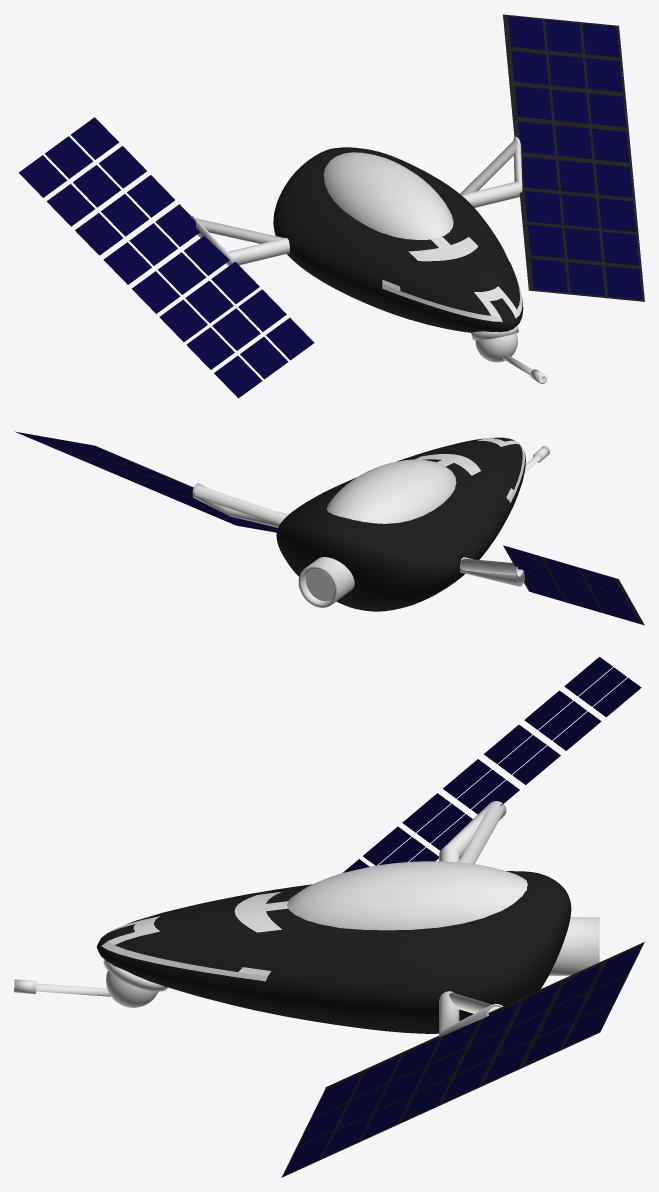
File: SpaceShip.fbx
The picture shows the model from 3 angles, top to bottom: view 1: azimuth 30°, elevation 25°; view 2: azimuth 150°, elevation 25°; view 3: azimuth 270°, elevation 25°; orthographic projection. The views are drawn at different scales.
Parts seen in each view (by area): view 1: кузов; view 2: кузов; view 3: кузов.
Part boxes in pixels (left/top/right/bottom): кузов: left=19, top=14, right=644, bottom=398; кузов: left=15, top=431, right=644, bottom=625; кузов: left=14, top=657, right=644, bottom=1177.
Size of the model in its own units: 969 by 282 by 681.
